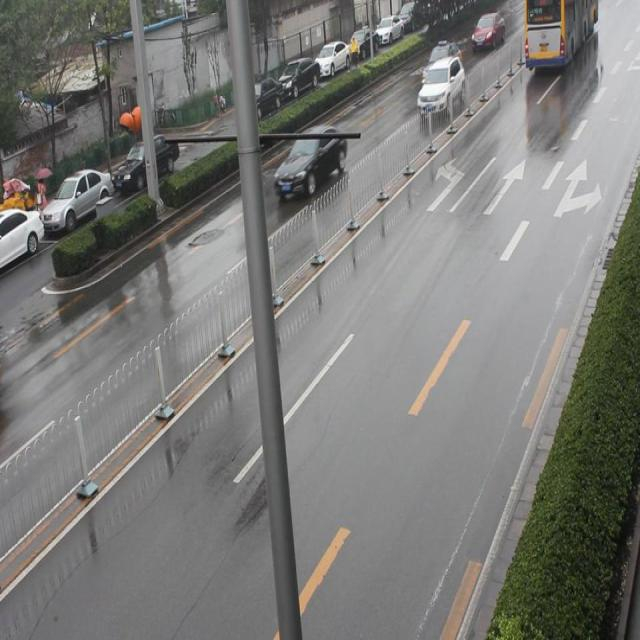car: (272, 120, 345, 200), (411, 55, 467, 120), (419, 37, 462, 78), (468, 10, 505, 52)
van: (522, 1, 598, 65)
